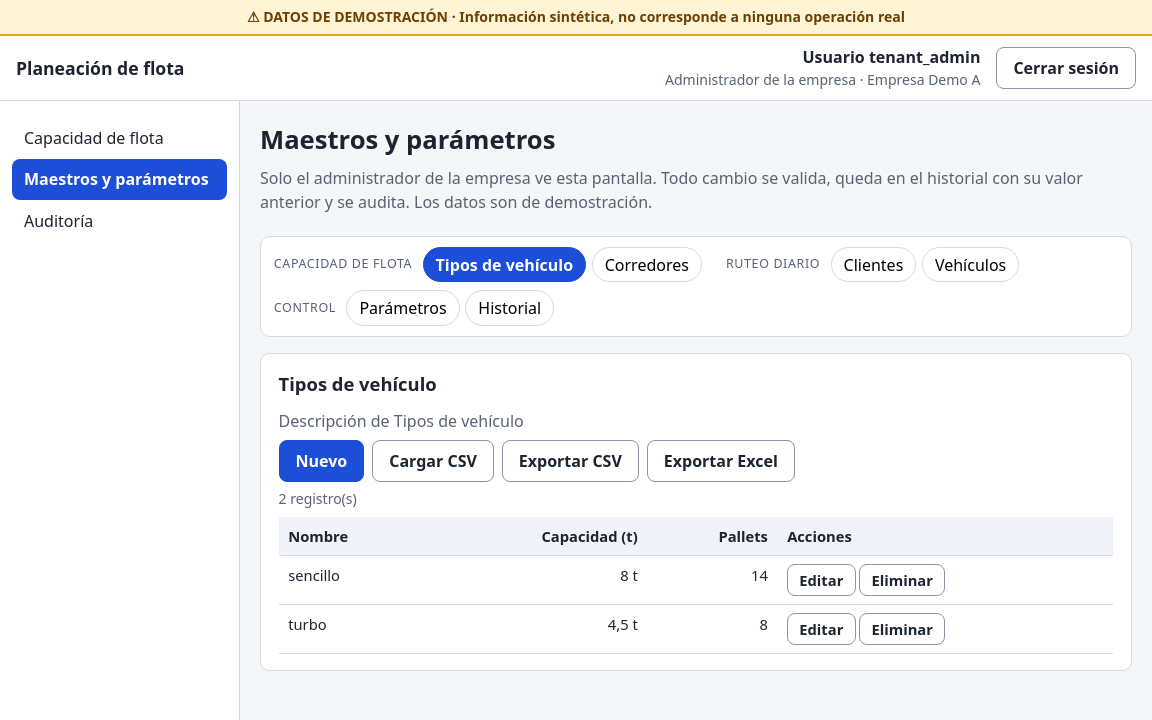
Scenario: tablas de maestros › cambiar de pestaña carga ese maestro y formatea porcentajes y selecciones
Click the tab "Corredores": (647, 264) x1=592 y1=247 x2=702 y2=282
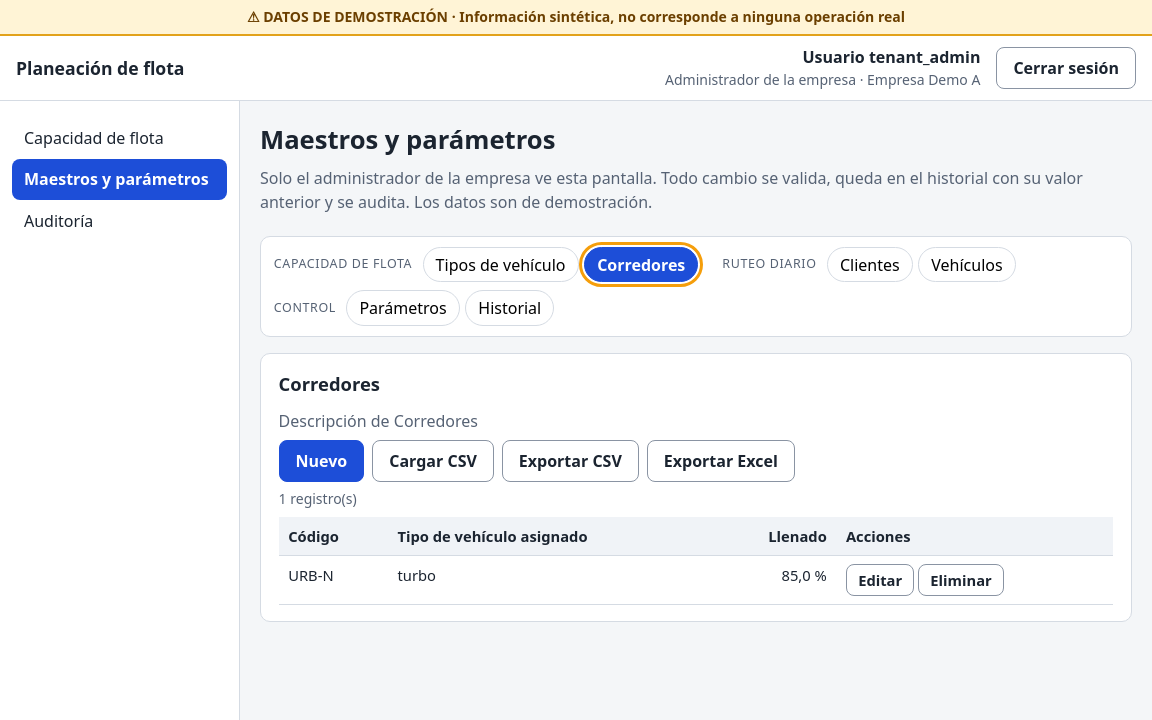
Expected: the text "turbo" is shown, x1=388 y1=556 x2=715 y2=605
Expected: the text "85,0 %" is shown, x1=715 y1=556 x2=836 y2=605
